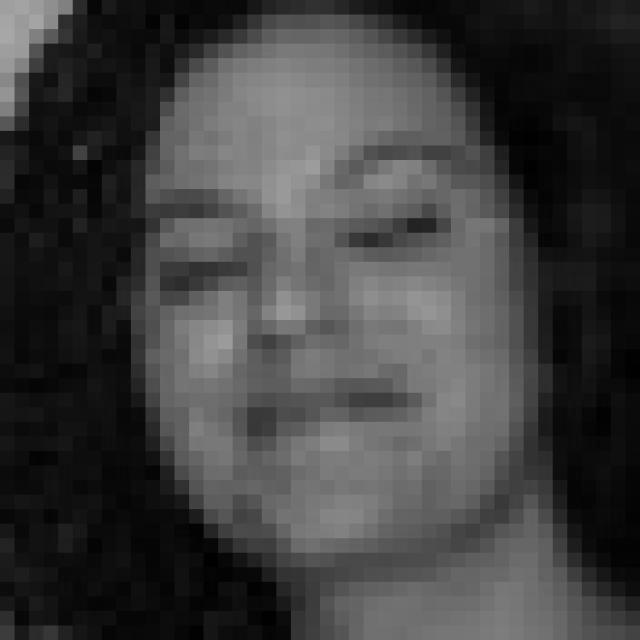real: (102, 12, 550, 565), (133, 206, 508, 300)
